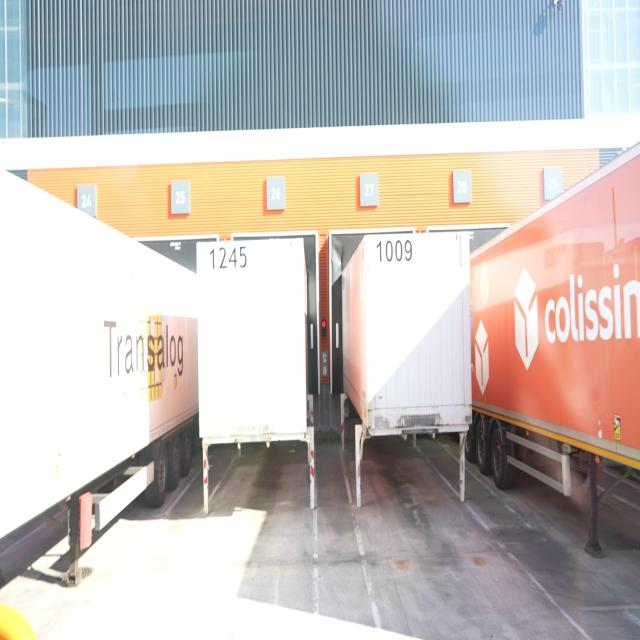Code: (210, 243, 252, 278), (374, 235, 418, 268)
